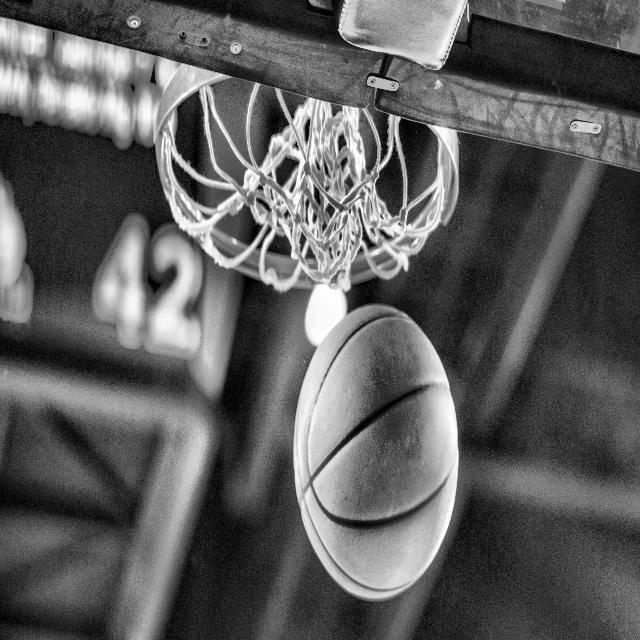Basketball: (294, 304, 459, 600)
